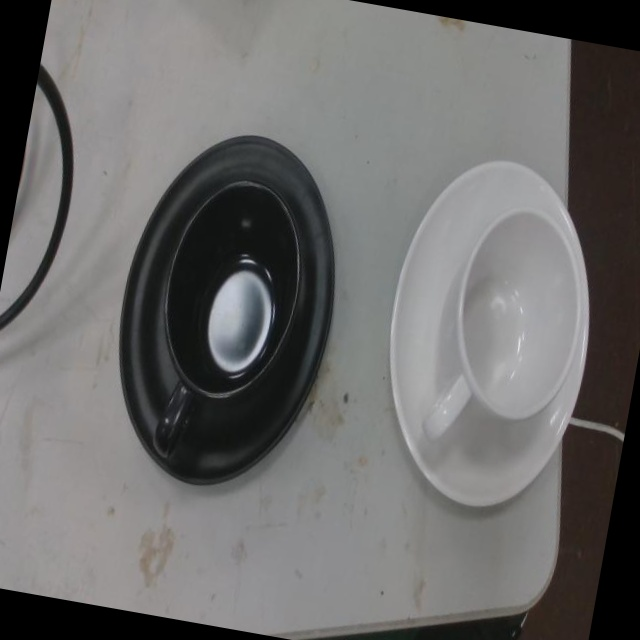black: (119, 125, 334, 495)
white: (386, 155, 592, 511)
